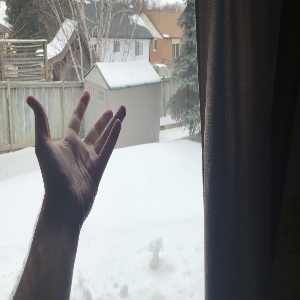hand: (27, 91, 126, 206)
